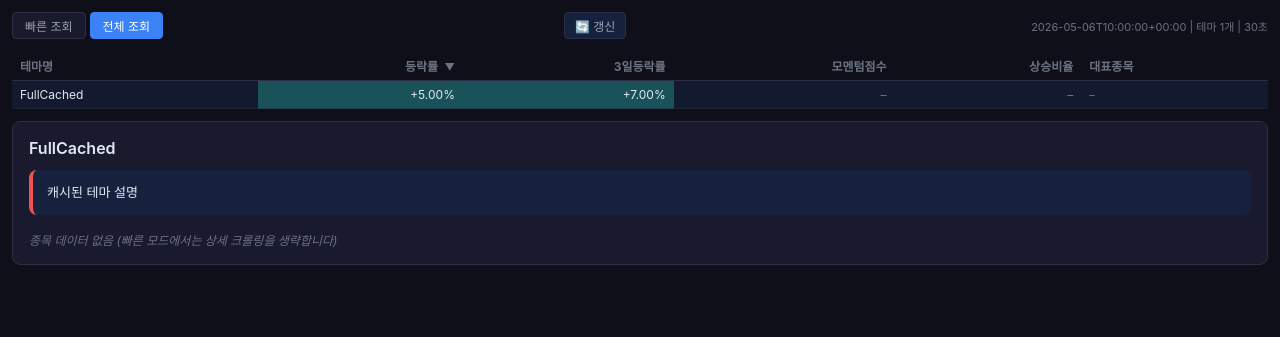
Test: ThemeAnalysis — quick/full 모드별 캐시 key 분리 (AC-24, REQ-NT3-015 v1.0.5) › mode toggle to quick uses quick cache without fetching when present
The width and height of the screenshot is (1280, 337).
Expected: the text "FullCached" is shown, [12,80,258,108]
// quick 토글
Click the button "빠른 조회" at (49,26), box [12,12,86,39]
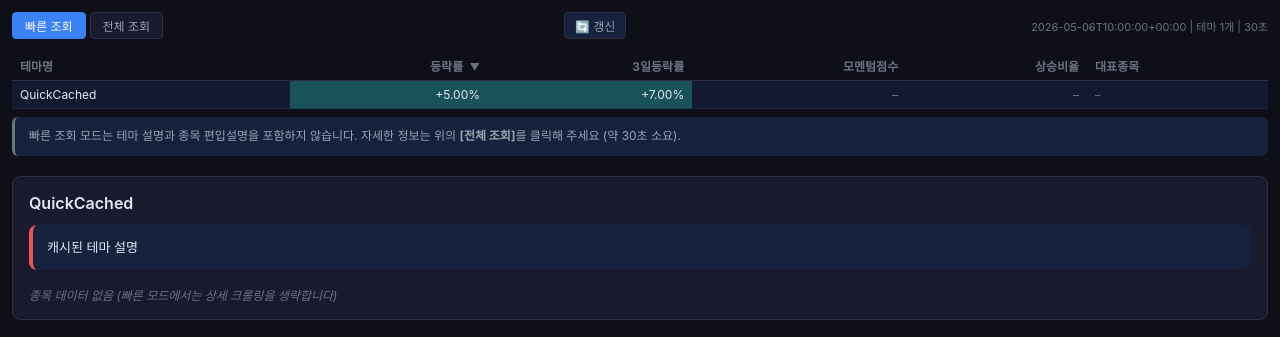
Expected: the text "QuickCached" is shown, [12,80,290,108]
